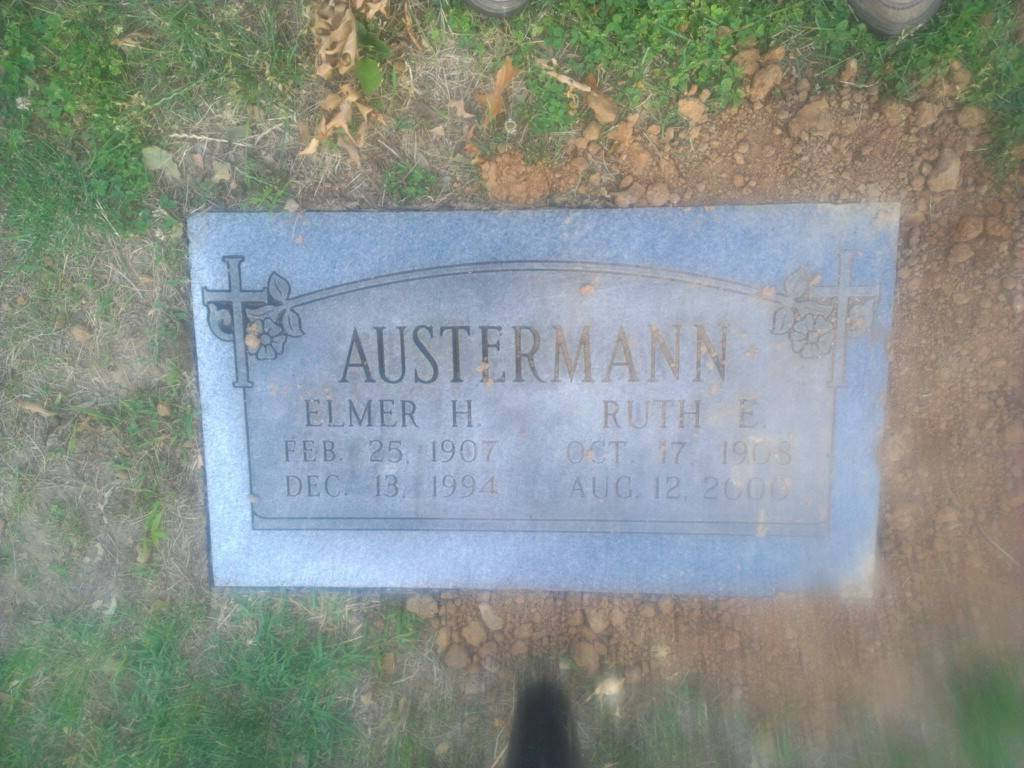flat: (182, 198, 901, 598)
